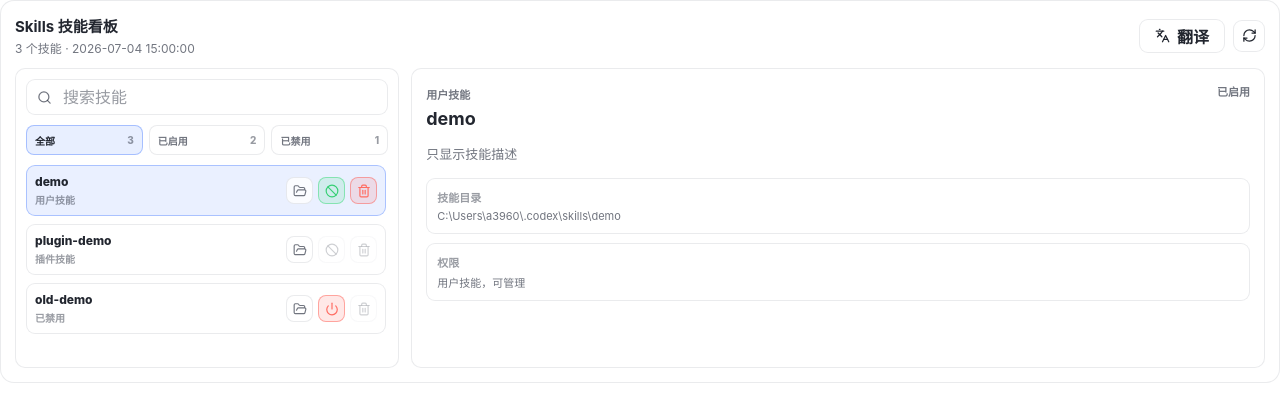
it: SkillsBoard › filters disabled skills and toggles translated description
Expected: the heading "Skills 技能看板" is shown, [15, 17, 118, 36]
Step 1. Click the button "已禁用 1" → coordinates (330, 140), box [272, 125, 388, 155]
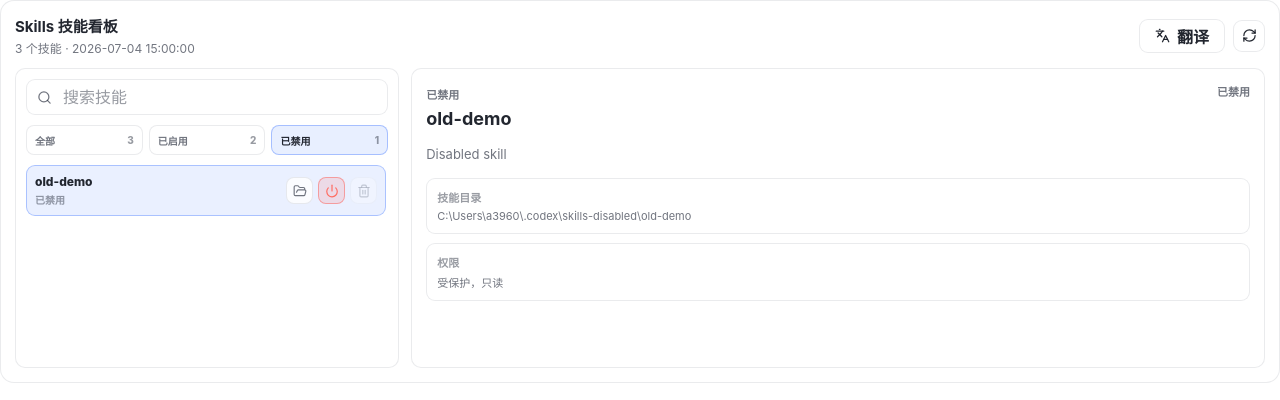
Expected: the option "old-demo 已禁用" is shown, [35, 174, 278, 207]
Step 2. Click the button with aria-label "翻译技能描述" → coordinates (1182, 36), box [1139, 18, 1225, 52]
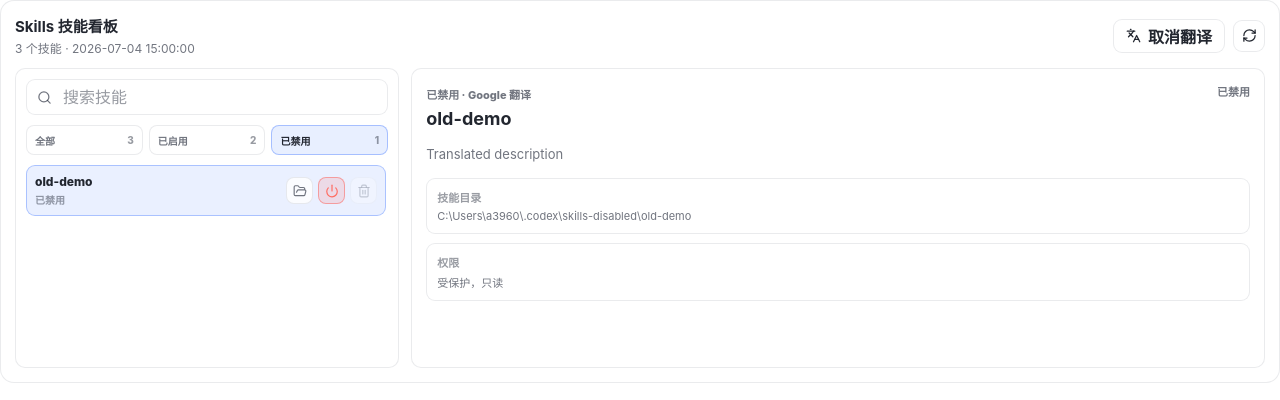
Expected: the text "Translated description" is shown, [426, 146, 563, 162]
Step 3. Click the button "取消翻译" → coordinates (1169, 36), box [1113, 18, 1225, 52]
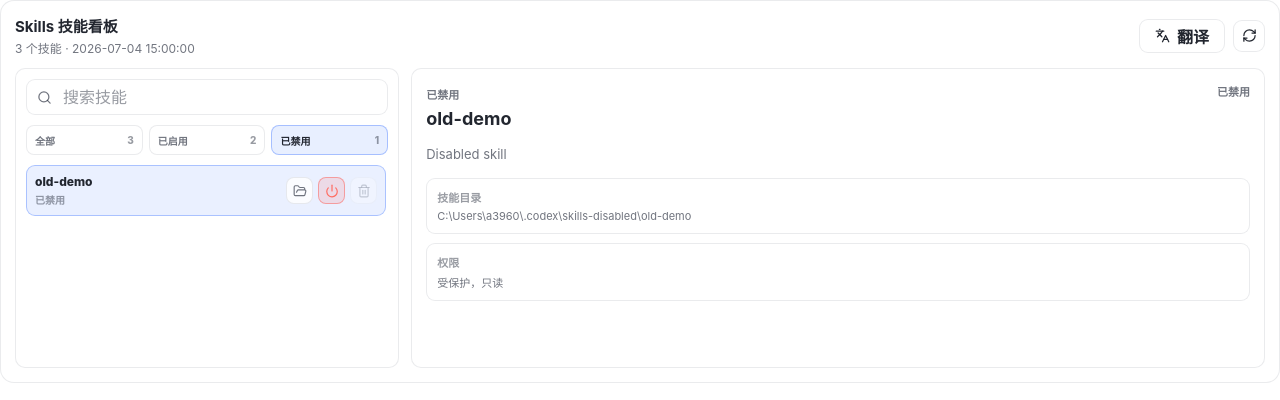
Expected: the text "Disabled skill" is shown, [426, 146, 507, 162]
